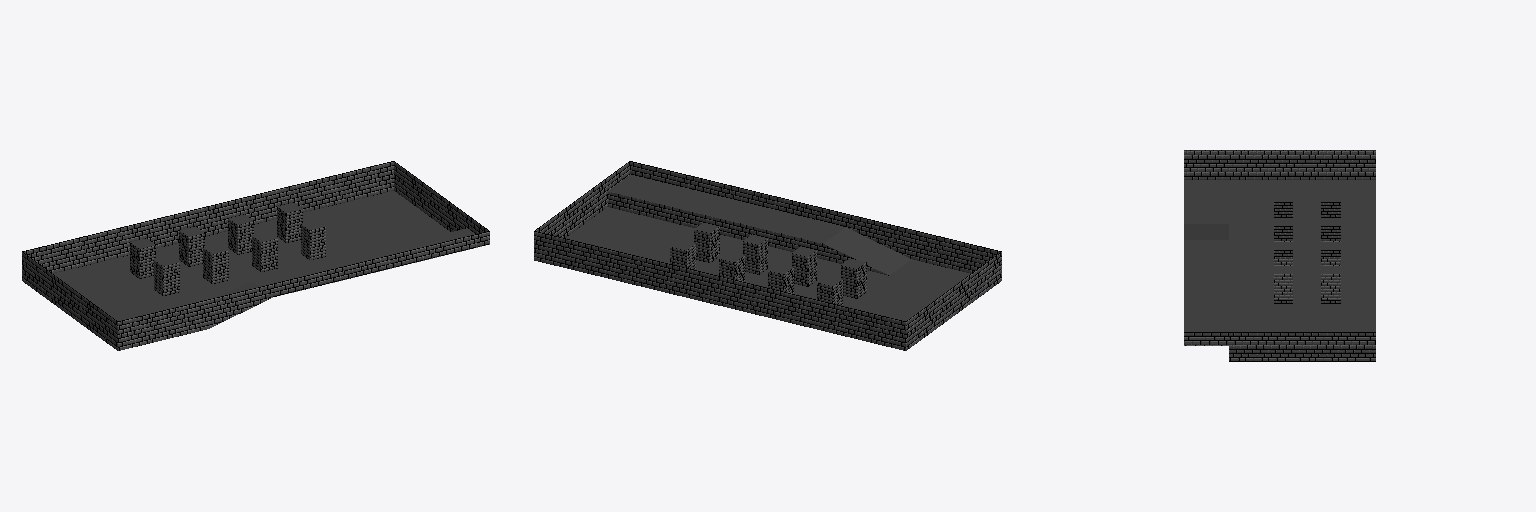
3 renders of one model, left to right at view 1: azimuth 30°, elevation 25°; view 2: azimuth 150°, elevation 25°; view 3: azimuth 270°, elevation 25°, orthographic.
Visible parts, largest first — view 1: testmap; view 2: testmap; view 3: testmap.
Boxes of the visible parts, box(x1,y1,x2,y2) form: testmap: box(22, 161, 489, 350); testmap: box(534, 161, 1001, 350); testmap: box(1184, 150, 1375, 361).
Bounding box in the file's own units: 26.11 × 2 × 11.65.
Materials: 1 (1 with a texture image).